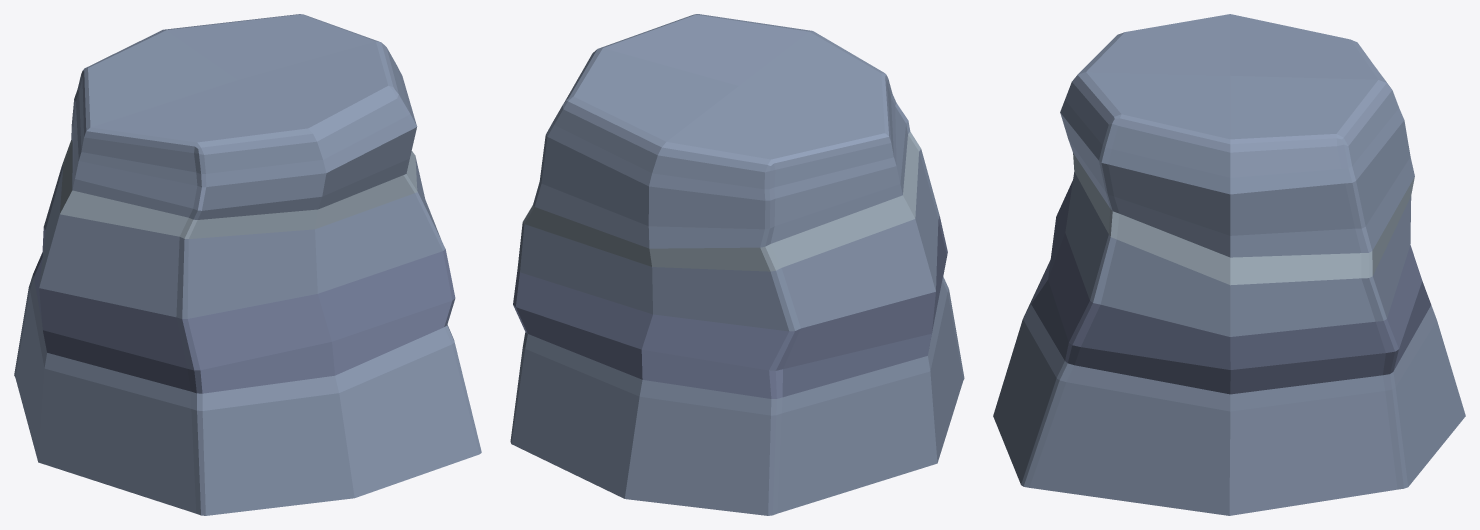
Rendered from Cliff_Tiny.fbx.
3 views of the same model, side by side, from view 1: azimuth 30°, elevation 25°; view 2: azimuth 150°, elevation 25°; view 3: azimuth 270°, elevation 25° (orthographic). The views are drawn at different scales.
Parts seen in each view (by area): view 1: Cliff_Tiny; view 2: Cliff_Tiny; view 3: Cliff_Tiny.
Boxes of the visible parts, left/top/right/bottom form: Cliff_Tiny: left=14, top=14, right=481, bottom=515; Cliff_Tiny: left=510, top=14, right=964, bottom=515; Cliff_Tiny: left=993, top=14, right=1465, bottom=515.
Size of the model in its own units: 5.22 by 4.26 by 5.22.
